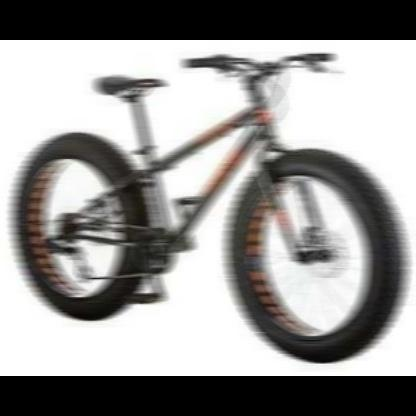Bicycle: (8, 44, 416, 371)
